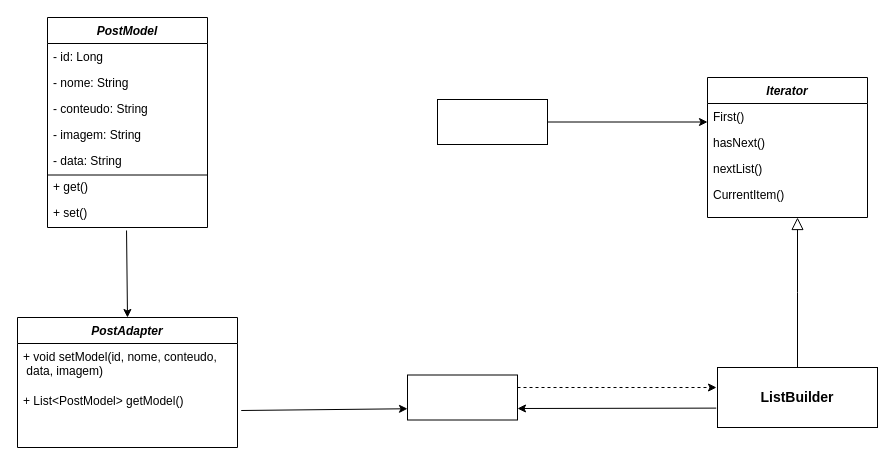
This 895x465 diagram has some shape labels left out. The centre of each missing label's shape, as x and y in pixels:
"Cliente" belongs at (492,121).
"List<Object>" belongs at (462,397).
